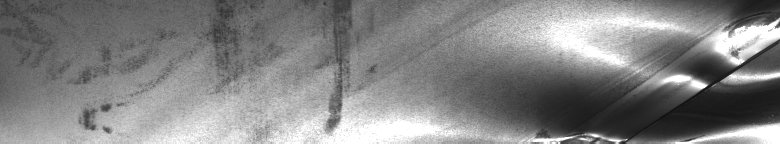ke: (531, 13, 776, 136)
